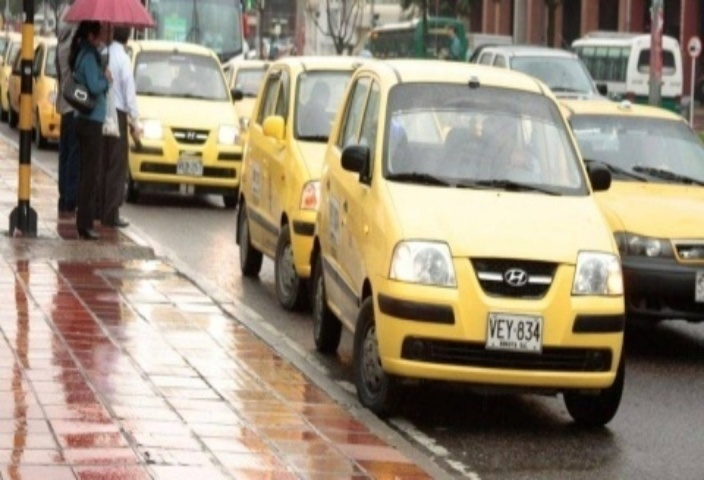bus: (352, 20, 475, 71)
camper: (472, 34, 616, 145)
taxi: (328, 53, 629, 435), (244, 57, 416, 288), (544, 86, 704, 328), (96, 42, 249, 213), (15, 33, 74, 135)
van: (565, 23, 690, 116)
